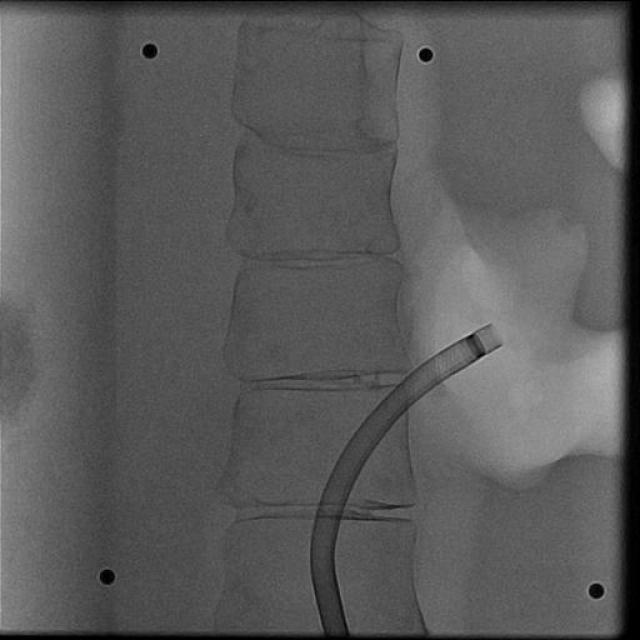bend: (311, 553, 335, 576)
entry: (324, 628, 350, 635)
marker: (464, 334, 486, 360)
tip: (489, 324, 505, 346)
